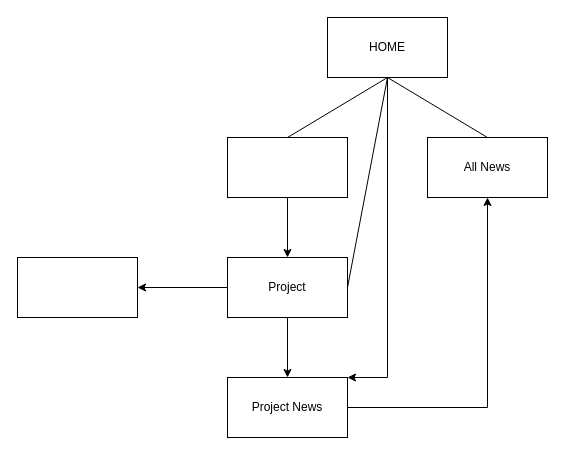
Image size: 565x455. Some labels were removed from this diagram. Here are the shapes that lost their labels. From the top down, the box of each, then its label:
(226, 136, 348, 198): All Projects
(16, 256, 138, 318): Project Files
